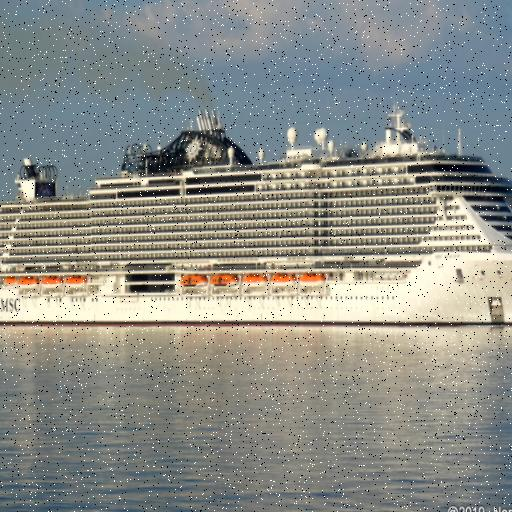cruises: (1, 104, 512, 337)
